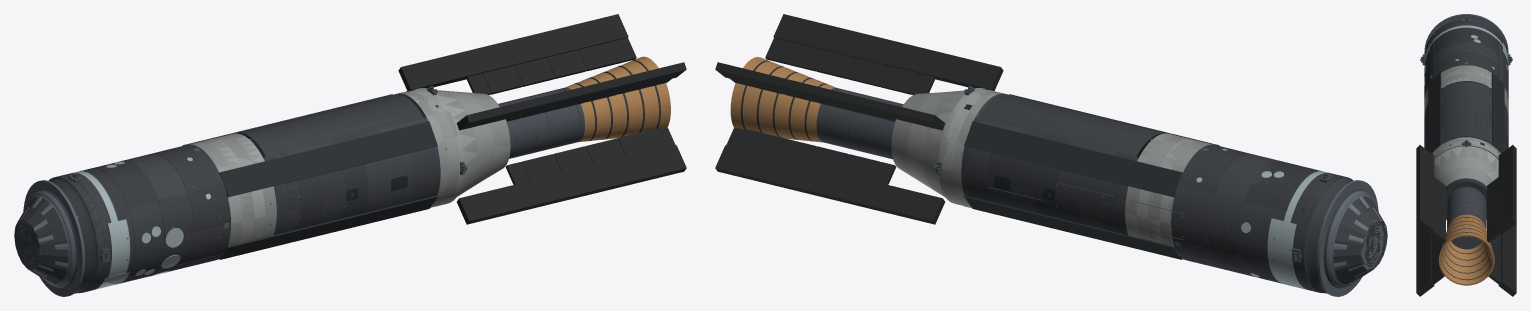
File: wayfarer_exterior_detail_88ce19fc_stowed_closed.glb
The picture shows the model from 3 angles, left to right: view 1: azimuth 30°, elevation 25°; view 2: azimuth 150°, elevation 25°; view 3: azimuth 270°, elevation 25°; orthographic projection. The views are drawn at different scales.
Visible parts, largest first — view 1: dry:armor, dry:skin_midship, dry:hotfin_220:folded_envelope, dry:hotfin_40:folded_envelope, dry:strake_140:stowed_stack, dry:nozzle, dry:skin_service, dry:door_port, dry:hotfin_root_40:root, dry:thrust_cone, dry:hotfin_root_220:root, dry:hotfin_140:folded_envelope (+12 smaller); view 2: dry:armor, dry:skin_midship, dry:hotfin_320:folded_envelope, dry:hotfin_140:folded_envelope, dry:strake_40:stowed_stack, dry:nozzle, dry:skin_service, dry:hotfin_root_140:root, dry:door_starboard, dry:thrust_cone, dry:hotfin_root_320:root, dry:reactor (+14 smaller); view 3: dry:armor, dry:nozzle, dry:thrust_cone, dry:hotfin_40:folded_envelope, dry:hotfin_140:folded_envelope, dry:reactor, dry:door_port, dry:door_starboard, dry:hotfin_220:folded_envelope, dry:hotfin_320:folded_envelope, dry:skin_service, dry:strake_40:stowed_stack (+12 smaller).
Part boxes in pixels (box(x1,y1,x2,y2)): dry:armor: box(28, 144, 230, 293); dry:skin_midship: box(263, 117, 440, 235); dry:hotfin_220:folded_envelope: box(457, 145, 686, 224); dry:hotfin_40:folded_envelope: box(398, 14, 628, 90); dry:strake_140:stowed_stack: box(219, 121, 437, 197); dry:nozzle: box(565, 56, 670, 142); dry:skin_service: box(187, 133, 276, 259); dry:door_port: box(250, 98, 423, 156); dry:hotfin_root_40:root: box(466, 38, 636, 94); dry:thrust_cone: box(437, 90, 510, 196); dry:hotfin_root_220:root: box(505, 127, 675, 184); dry:hotfin_140:folded_envelope: box(456, 62, 686, 130); dry:armor: box(1171, 144, 1373, 293); dry:skin_midship: box(961, 117, 1138, 235); dry:hotfin_320:folded_envelope: box(715, 145, 944, 224); dry:hotfin_140:folded_envelope: box(773, 14, 1003, 90); dry:strake_40:stowed_stack: box(964, 121, 1182, 197); dry:nozzle: box(730, 57, 836, 142); dry:skin_service: box(1125, 133, 1214, 259); dry:hotfin_root_140:root: box(765, 38, 935, 94); dry:door_starboard: box(978, 98, 1151, 156); dry:thrust_cone: box(891, 90, 964, 197); dry:hotfin_root_320:root: box(726, 128, 896, 184); dry:reactor: box(816, 88, 903, 159); dry:armor: box(1424, 19, 1508, 102); dry:nozzle: box(1438, 214, 1494, 285); dry:thrust_cone: box(1434, 146, 1498, 220); dry:hotfin_40:folded_envelope: box(1498, 145, 1516, 234); dry:hotfin_140:folded_envelope: box(1416, 145, 1434, 234); dry:reactor: box(1447, 187, 1486, 249); dry:door_port: box(1444, 82, 1466, 142); dry:door_starboard: box(1466, 82, 1488, 142); dry:hotfin_220:folded_envelope: box(1416, 224, 1434, 296); dry:hotfin_320:folded_envelope: box(1498, 224, 1516, 296); dry:skin_service: box(1424, 65, 1508, 118); dry:strake_40:stowed_stack: box(1491, 72, 1504, 153).
Bounding box in the file's own units: 54.5 × 9.92 × 10.73.
